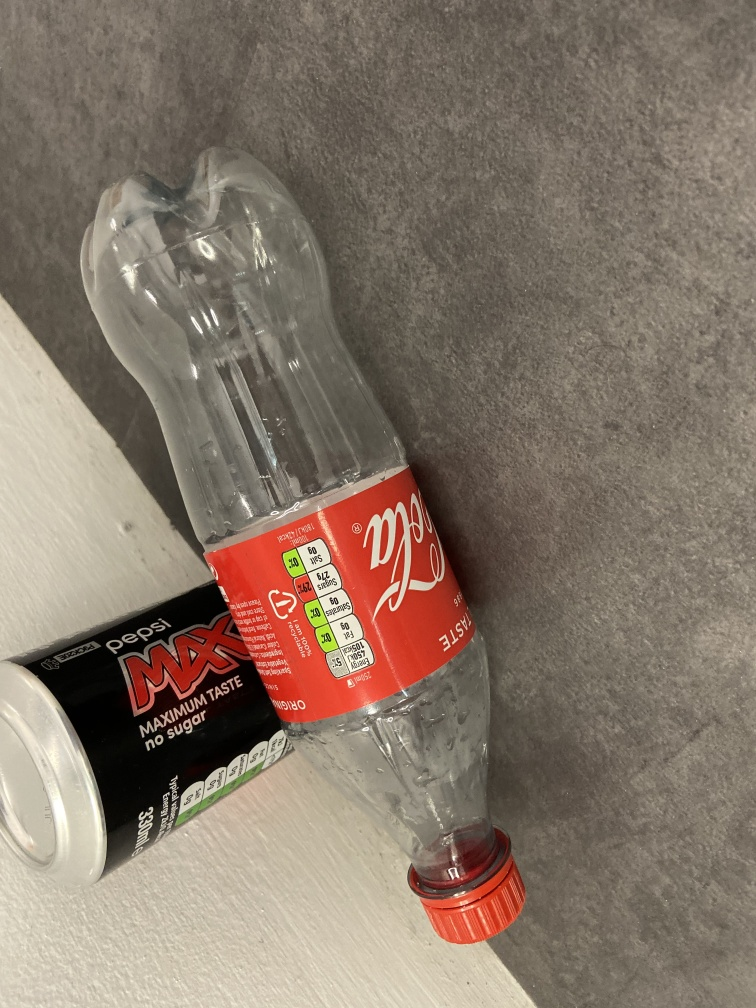bottle_red: (82, 142, 538, 956)
can_black: (1, 575, 306, 887)
